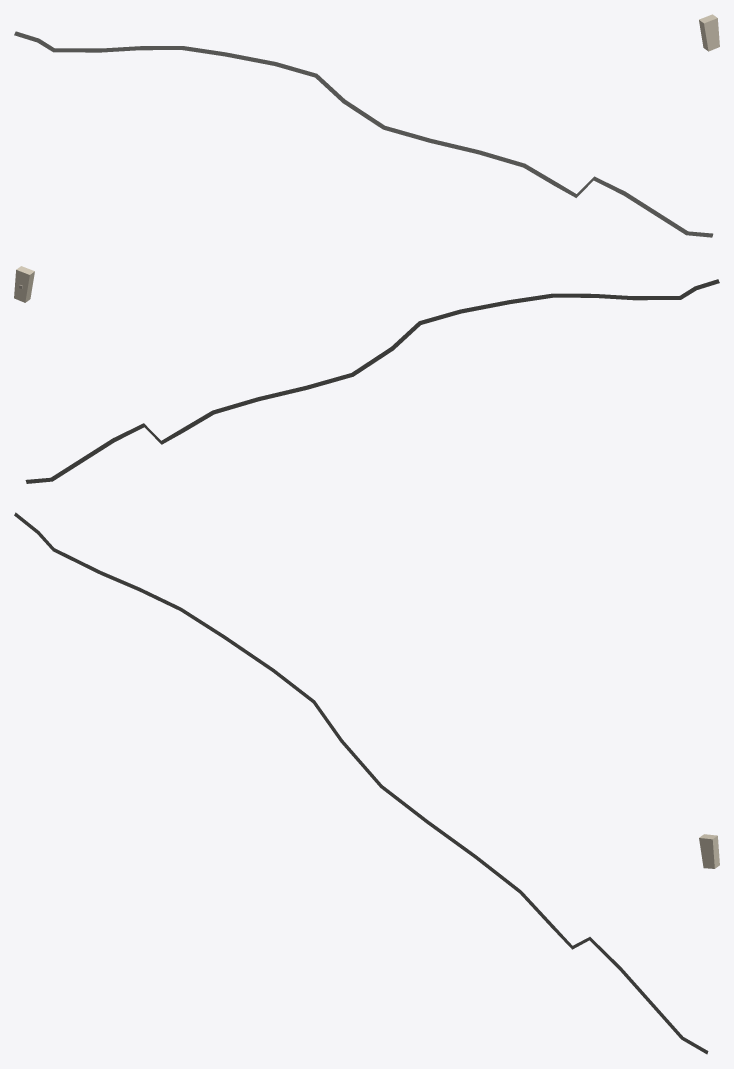
File: historic-palestine-12_28_3543_3229.glb
3 views of the same model, one above another, from view 1: azimuth 30°, elevation 25°; view 2: azimuth 150°, elevation 25°; view 3: azimuth 330°, elevation 25° (orthographic).
Parts seen in each view (by area): view 1: Road, Building_; view 2: Road, Building_; view 3: Road.
Part boxes in pixels (<box>): Road: <box>14,31,713,237</box>; Building_: <box>699,14,719,51</box>; Road: <box>25,279,719,483</box>; Building_: <box>14,266,34,302</box>; Road: <box>14,512,708,1054</box>.
Bounding box in the file's own units: 591 × 301 × 8.7.
